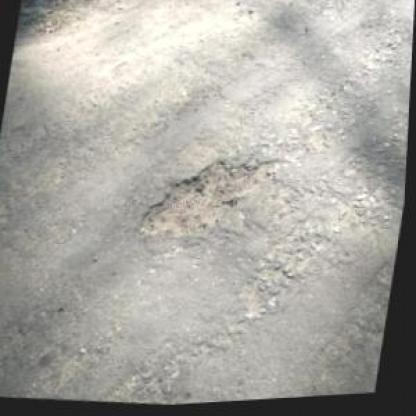pothole: (134, 146, 282, 251)
